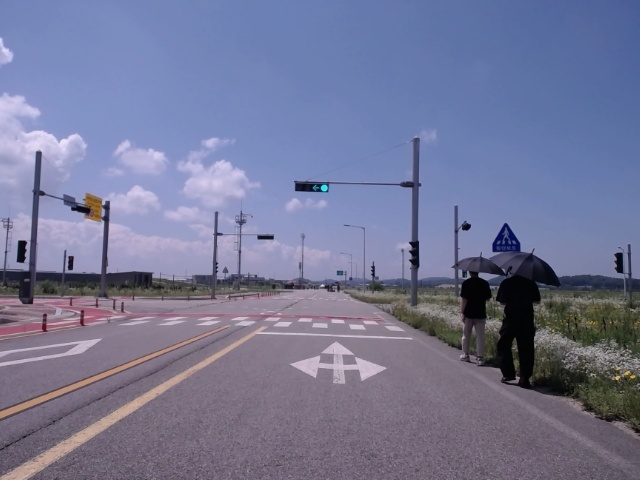all_green_4: (295, 181, 330, 191)
